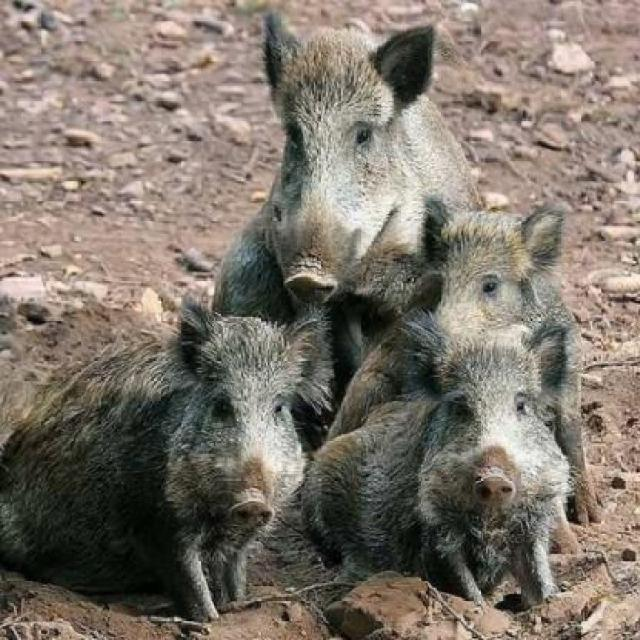Boar: (1, 292, 328, 638), (322, 349, 607, 625), (180, 26, 465, 288), (360, 189, 585, 402)
